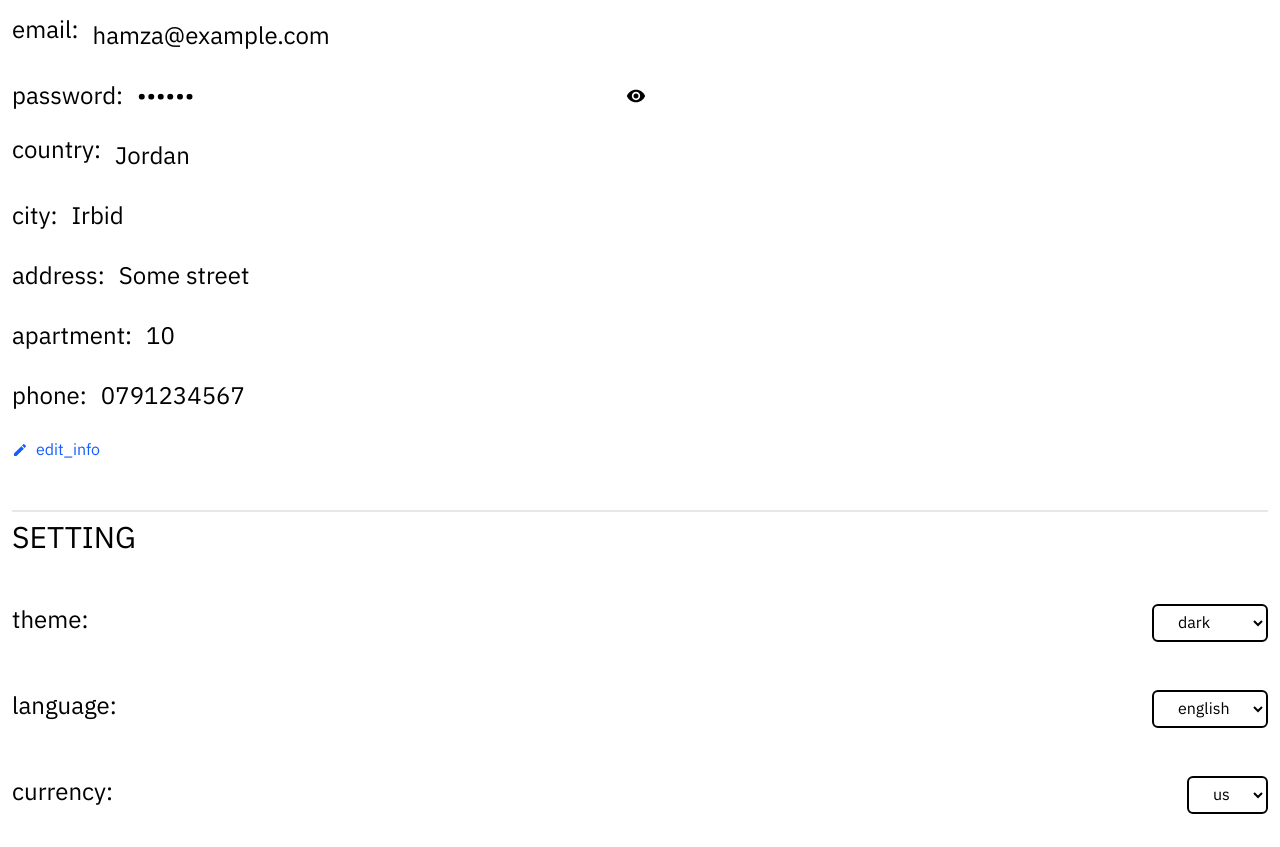
it: MyAccount Component › shows error on invalid save
(page scrolled)
Click the button "edit_info".
click(56, 450)  # box top-left (12, 438), bottom-right (100, 462)
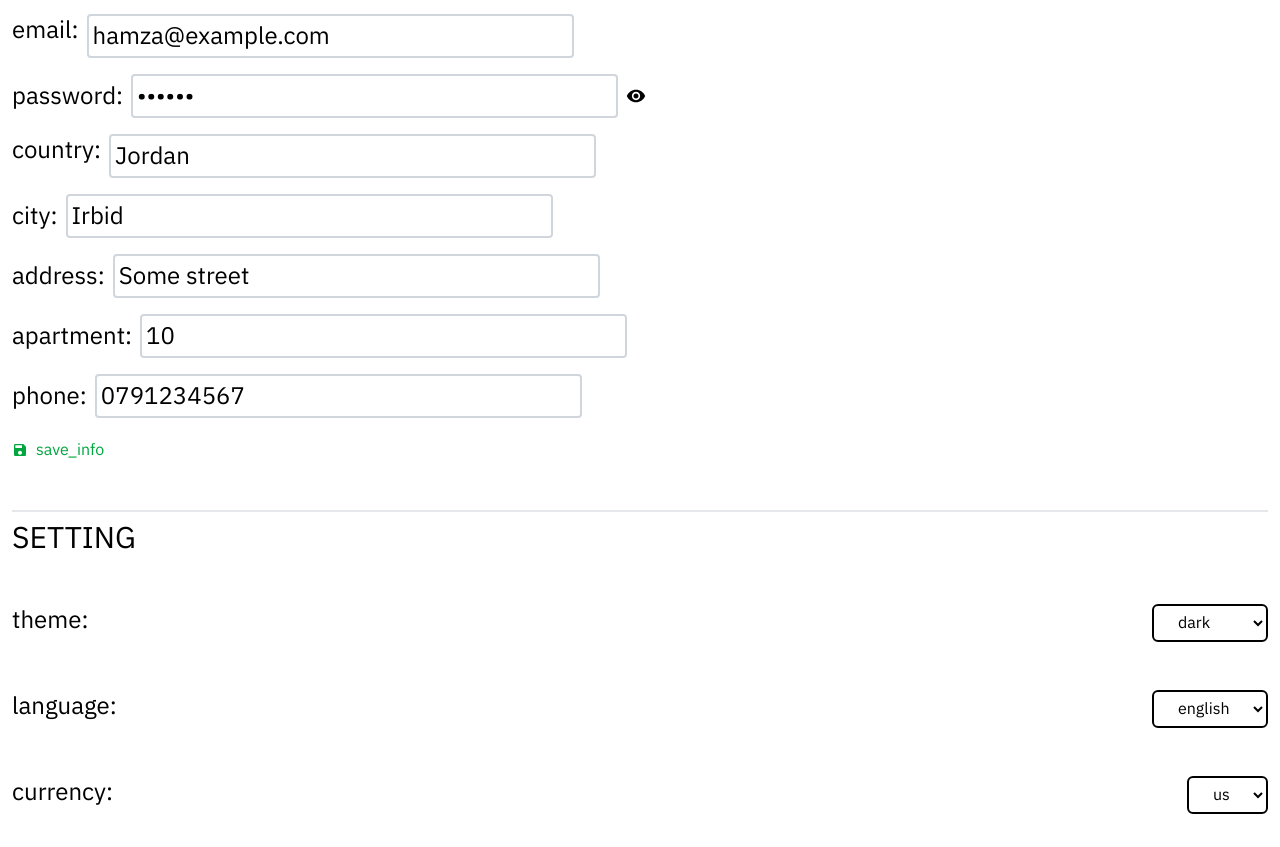
Replace the text in the field showing "hamza@example.com" next to "email" with "invalid-email" at coordinates (330, 36), box top-left (86, 14), bottom-right (574, 58)
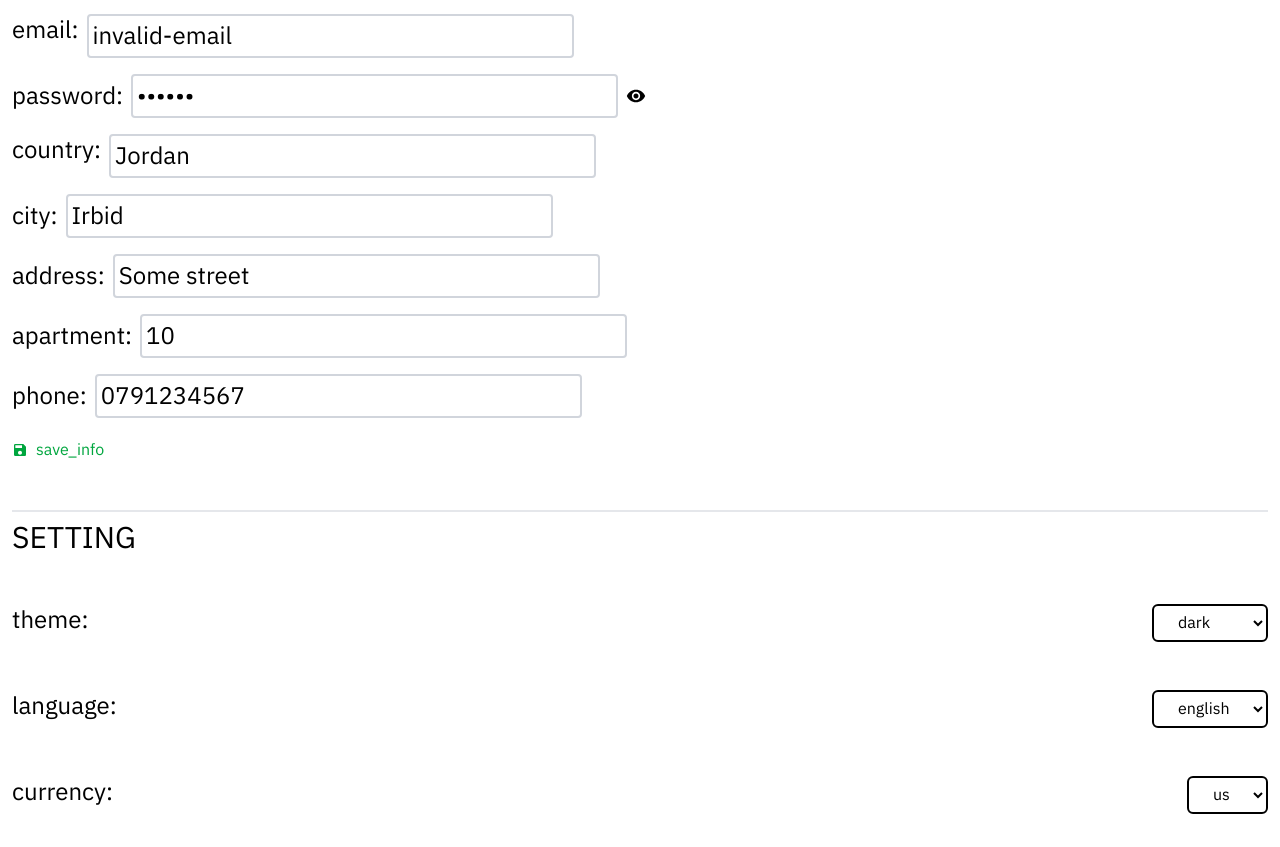
Click the button "save_info".
click(58, 450)  # box top-left (12, 438), bottom-right (104, 462)
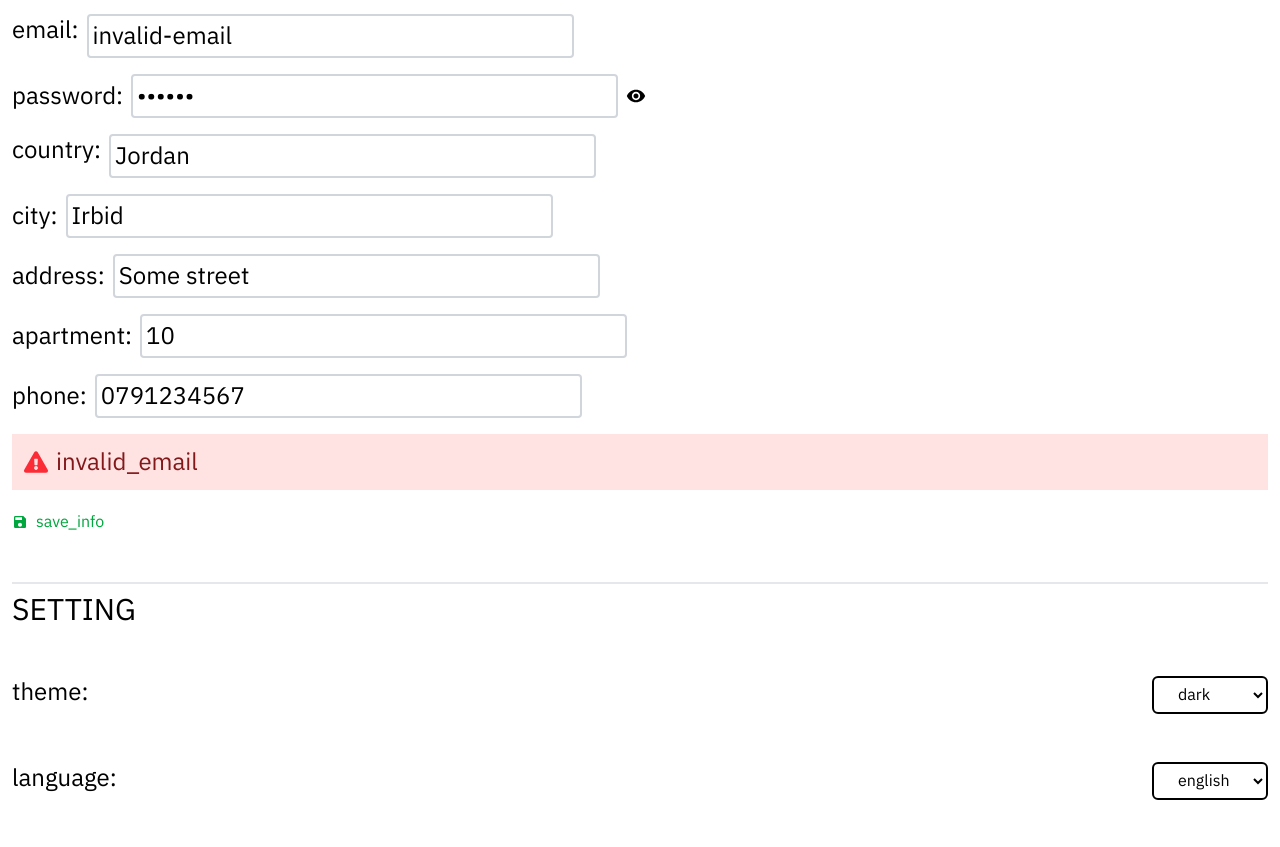
Check: the text "invalid_email" is shown, box top-left (56, 446), bottom-right (198, 478)
